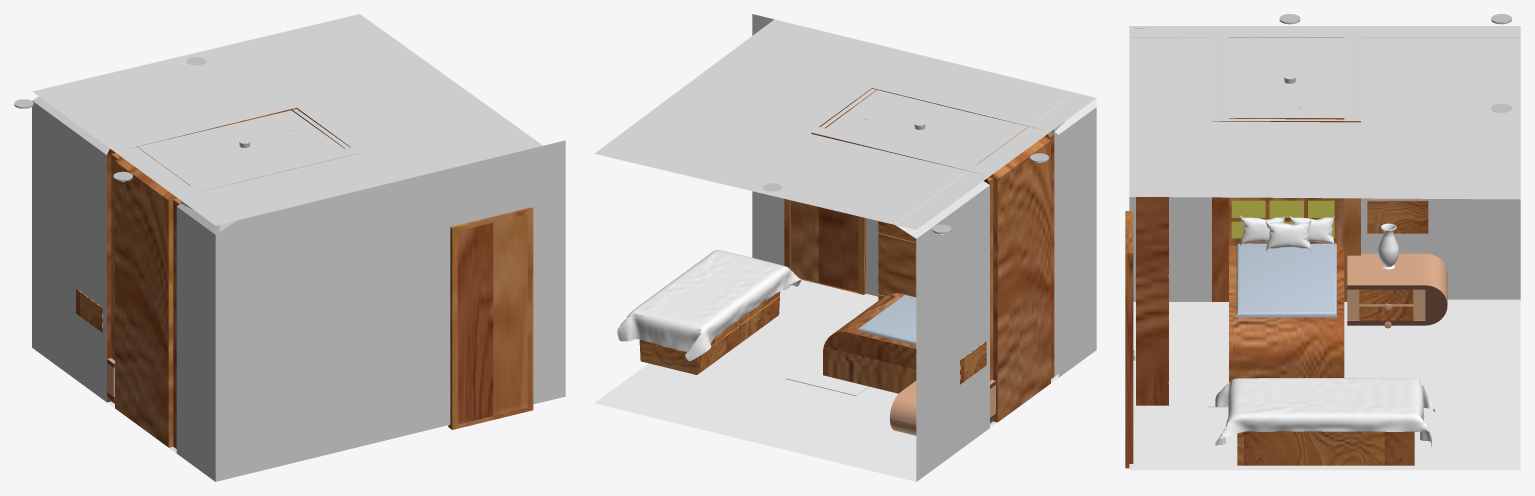
File: room.glb
3 renders of one model, left to right at view 1: azimuth 30°, elevation 25°; view 2: azimuth 150°, elevation 25°; view 3: azimuth 270°, elevation 25°, orthographic. The views are drawn at different scales.
Parts seen in each view (by area): view 1: Cube, Cube.009, Cube.007, Cube.005; view 2: Cube.009, Cube, Cube.015, Plane.003, Cube.007, Cube.001, Cube.014, Cube.006, Cube.011, Cube.002, Plane, Cube.005; view 3: Cube.009, Cube.015, Cube, Cube.001, Plane.003, Cube.011, Cube.006, Cube.002, Cube.014, Cube.007, Cube.005, Cube.013 (+5 smaller).
Part boxes in pixels (x1,y1,x2,y2): Cube: (32, 86, 565, 481); Cube.009: (32, 14, 542, 225); Cube.007: (448, 207, 533, 429); Cube.005: (76, 289, 102, 332); Cube.009: (594, 19, 1095, 229); Cube: (752, 14, 1096, 481); Cube.015: (594, 279, 1058, 481); Plane.003: (617, 250, 801, 361); Cube.007: (784, 199, 865, 294); Cube.001: (823, 293, 995, 393); Cube.014: (639, 291, 780, 374); Cube.006: (878, 221, 916, 300); Cube.011: (858, 295, 916, 345); Cube.002: (889, 380, 995, 435); Plane: (785, 351, 868, 395); Cube.005: (960, 341, 986, 384); Cube.009: (1129, 26, 1520, 199); Cube.015: (1129, 299, 1520, 470); Cube: (1129, 26, 1520, 301); Cube.001: (1229, 197, 1344, 382); Plane.003: (1215, 378, 1435, 446); Cube.011: (1236, 243, 1336, 317); Cube.006: (1136, 197, 1168, 405); Cube.002: (1347, 253, 1447, 325); Cube.014: (1237, 380, 1419, 465); Cube.007: (1125, 211, 1133, 468); Cube.005: (1367, 200, 1428, 233); Cube.013: (1265, 220, 1311, 250).
Size of the model in its own units: 15.79 by 10.61 by 13.49.
18 materials, 3 textured.
